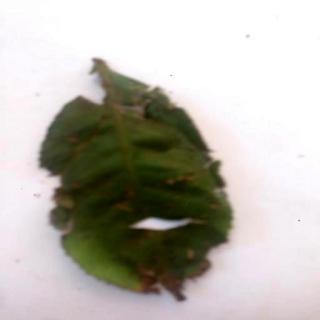Brown Blight: (38, 58, 238, 303)
